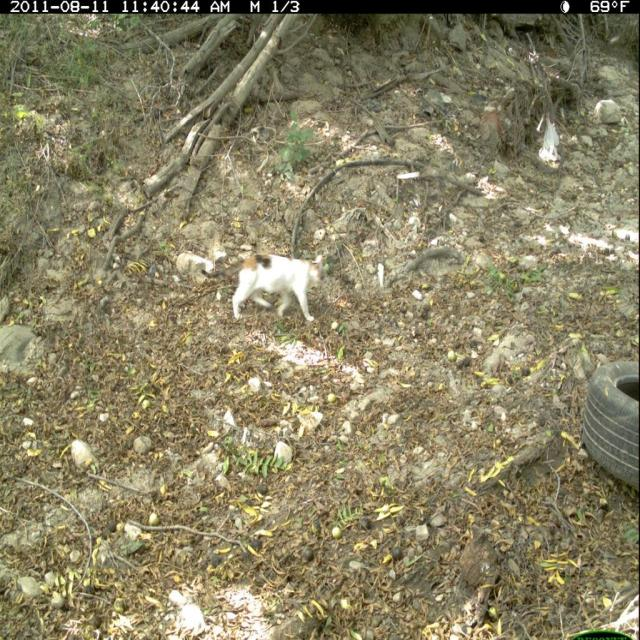cat: (200, 248, 329, 329)
